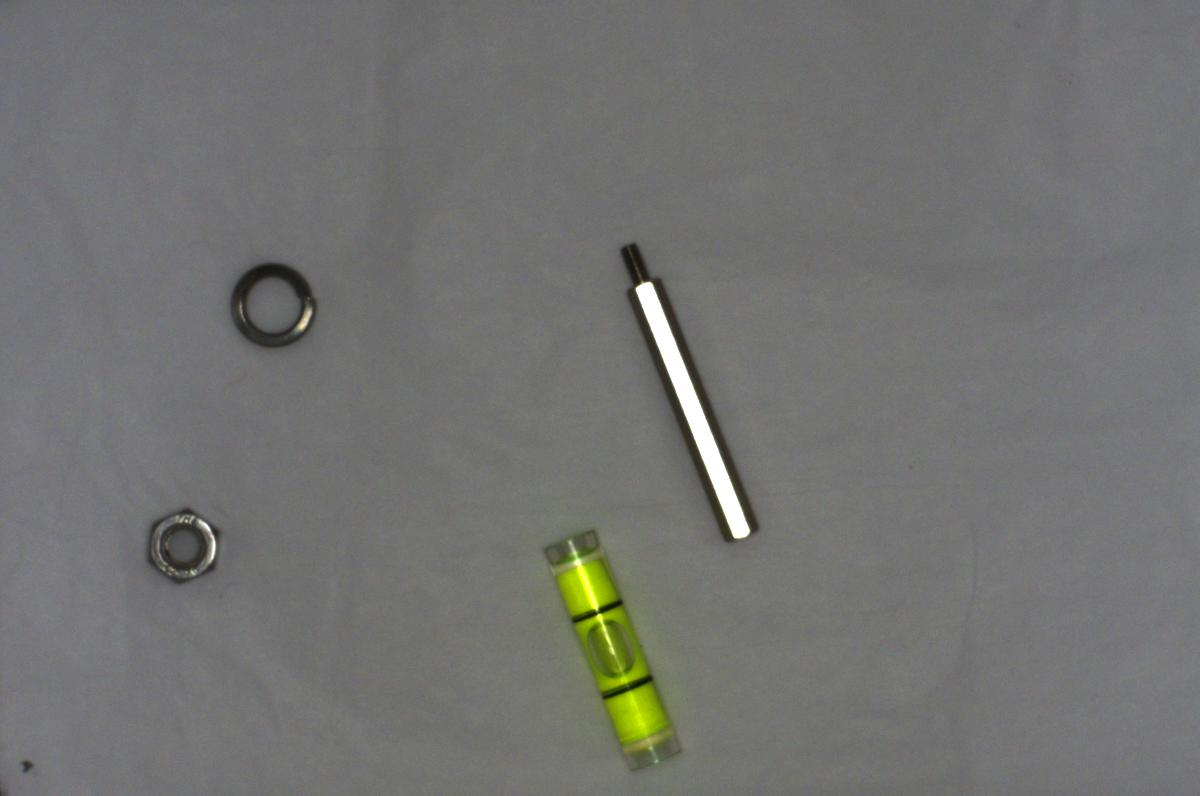Hexagon nut: (137, 499, 221, 582)
Hexagonal steel column: (618, 236, 760, 546)
Horizontal bubble: (541, 522, 686, 774)
Spring washer: (220, 253, 322, 355)
